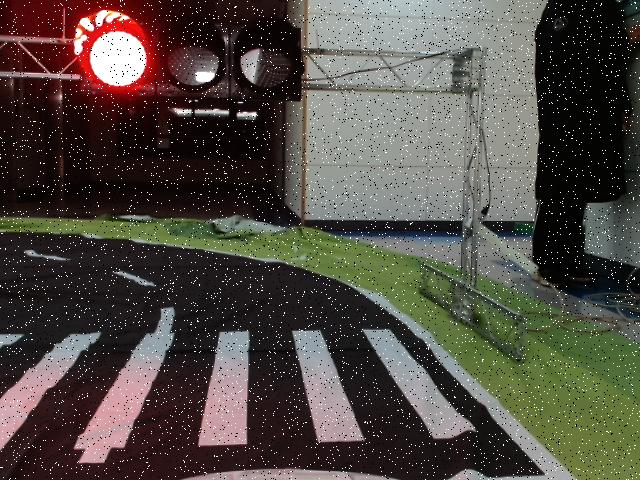crosswalk: (0, 329, 479, 453)
traffic light-red-: (75, 12, 304, 102)
